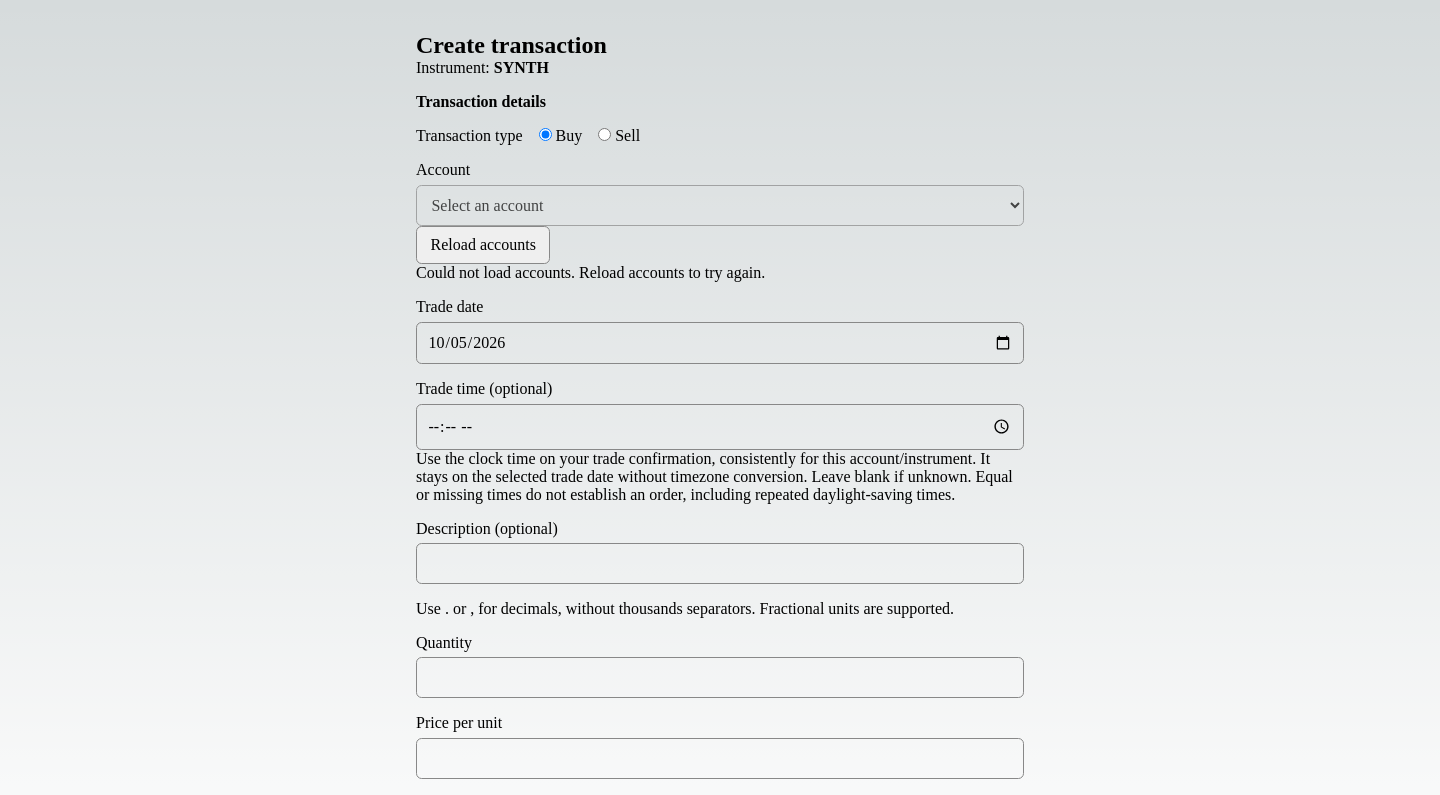
Test: handles account-load failure and explicit retry without enabling an unsafe save
Check: the message shows "Could not load accounts", box [416,264,765,281]
Click the button "Reload accounts" at coordinates (483, 245), box [416,226,550,264]
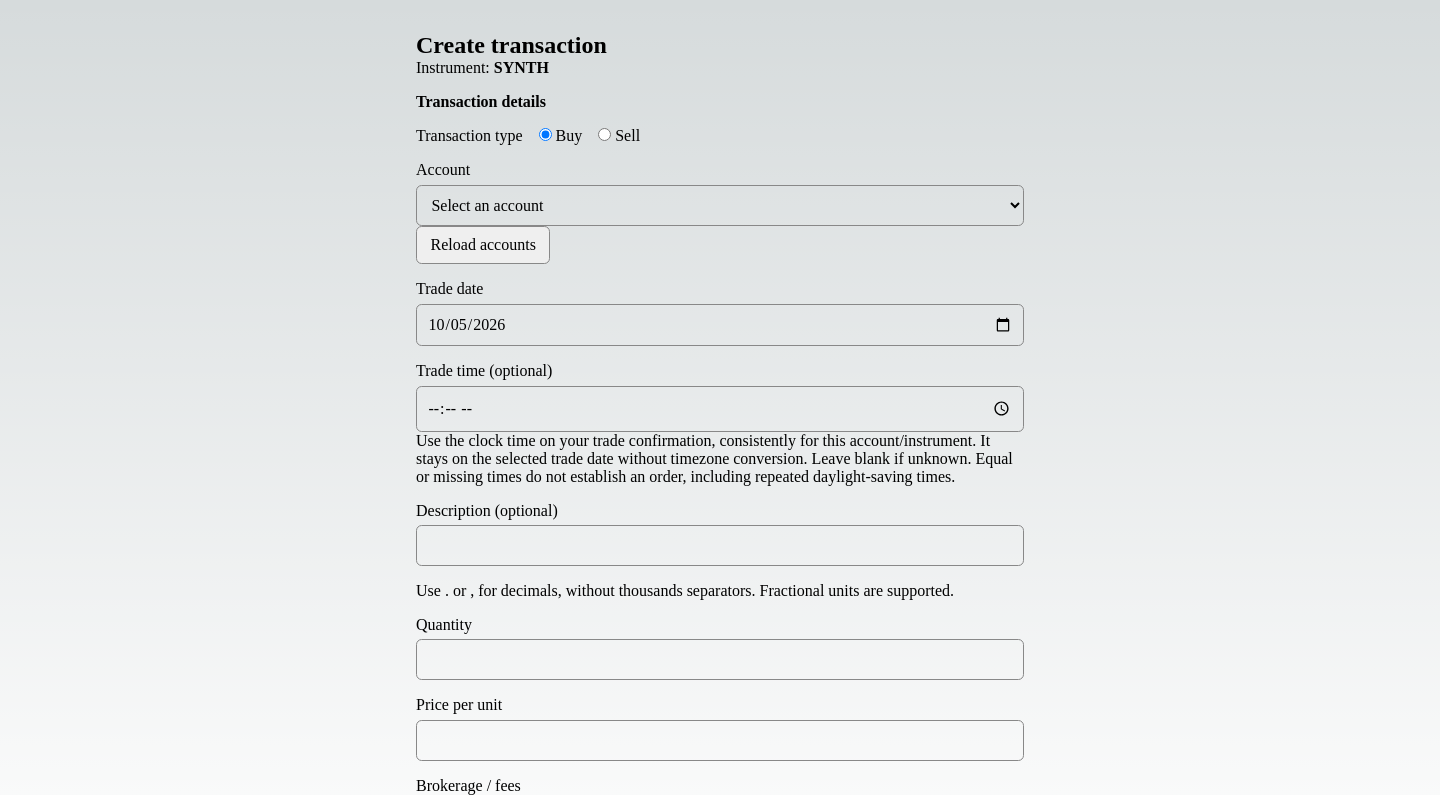
Check: the message "Could not load accounts. Reload accounts to try again." is gone
